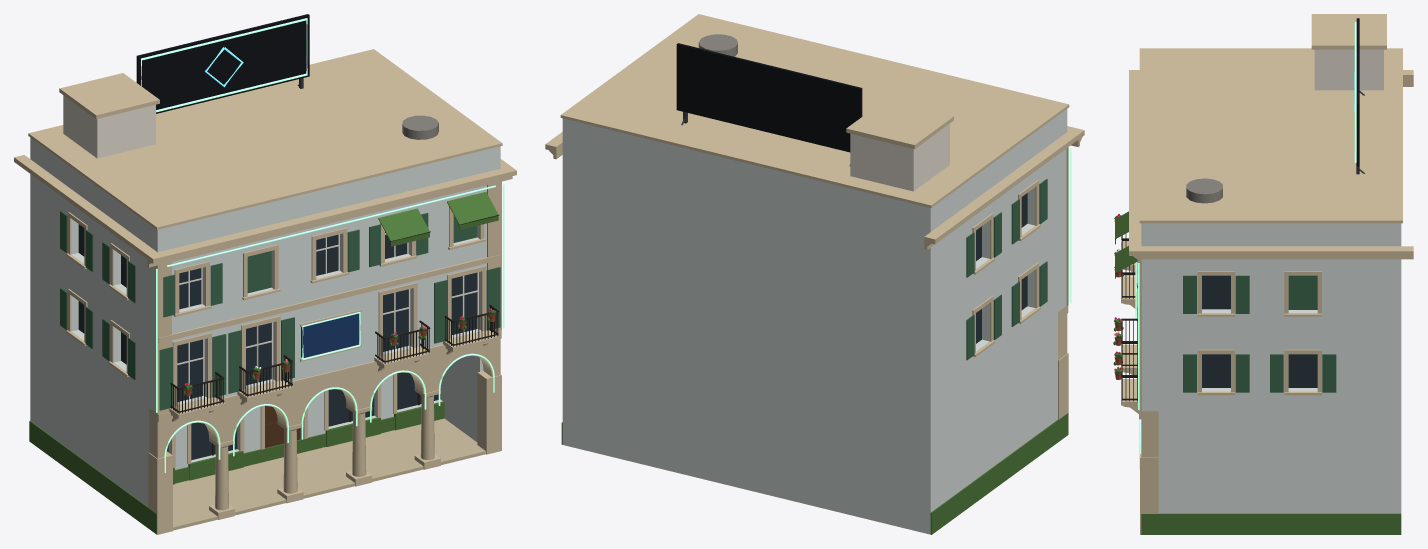
The picture shows the model from 3 angles, left to right: view 1: azimuth 30°, elevation 25°; view 2: azimuth 150°, elevation 25°; view 3: azimuth 270°, elevation 25°; orthographic projection. The views are drawn at different scales.
Visible parts, largest first — view 1: sandbox.lod0; view 2: sandbox.lod0; view 3: sandbox.lod0.
Boxes of the visible parts, left/top/right/bottom form: sandbox.lod0: left=14, top=14, right=516, bottom=534; sandbox.lod0: left=545, top=14, right=1084, bottom=534; sandbox.lod0: left=1113, top=14, right=1413, bottom=534.
Size of the model in its own units: 14.84 by 14.8 by 10.38.
